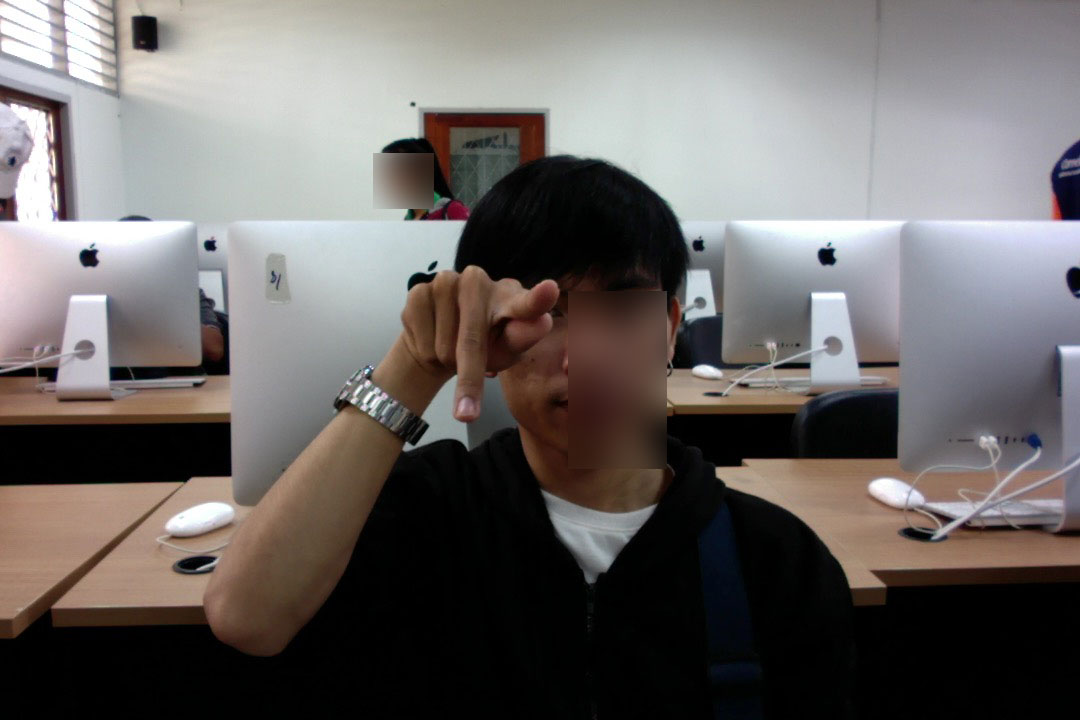por: (396, 251, 564, 423)
